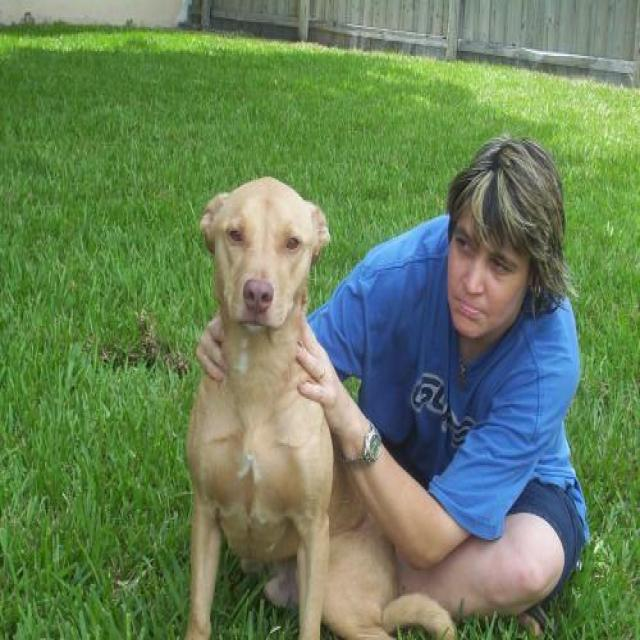Dogs: (182, 173, 458, 638)
